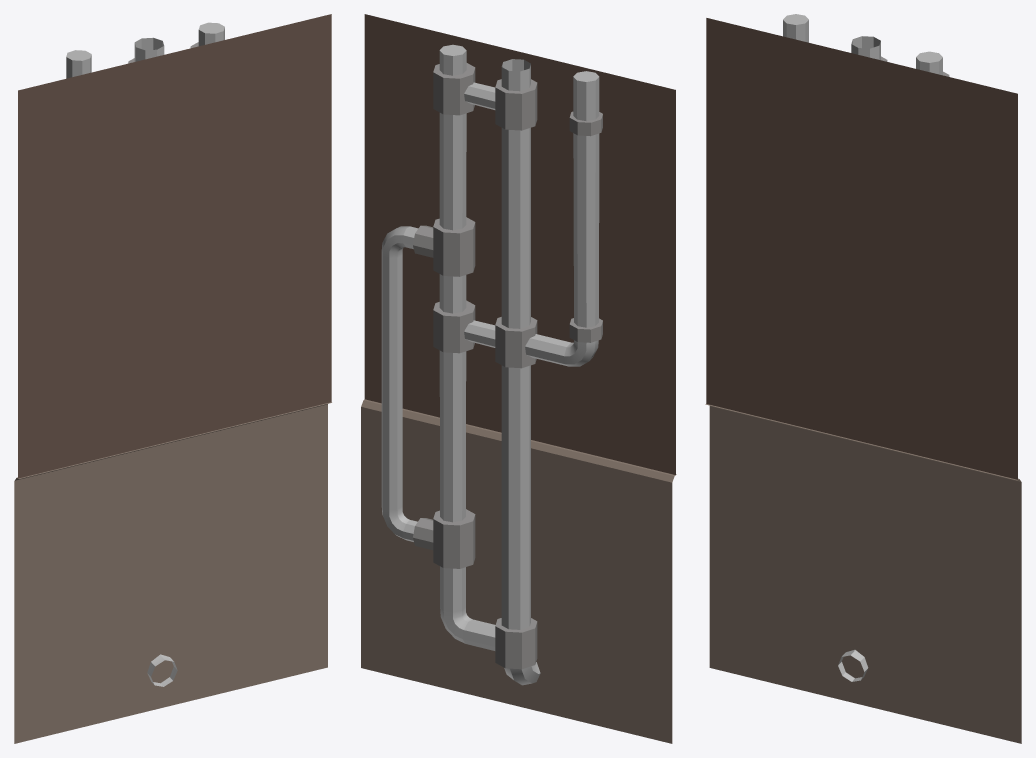
The model's file is pared_1.fbx.
3 views of the same model, side by side, from view 1: azimuth 30°, elevation 25°; view 2: azimuth 150°, elevation 25°; view 3: azimuth 330°, elevation 25° (orthographic).
Parts seen in each view (by area): view 1: base1, pCube3, pCylinder1, pCylinder4, pCylinder6; view 2: base1, pCube3, pCylinder1, pCylinder6, pCylinder4, pCylinder13, pCylinder17, pCylinder14, pCylinder2, pCylinder11, pCylinder20, pCylinder12 (+7 smaller); view 3: base1, pCube3, pCylinder1, pCylinder4, pCylinder6.
Part boxes in pixels (<box>): base1: <box>18,14,331,478</box>; pCube3: <box>14,402,331,743</box>; pCylinder1: <box>134,37,177,686</box>; pCylinder4: <box>66,50,91,78</box>; pCylinder6: <box>198,22,224,46</box>; base1: <box>364,14,675,474</box>; pCube3: <box>361,399,676,743</box>; pCylinder1: <box>501,59,540,685</box>; pCylinder6: <box>439,44,495,650</box>; pCylinder4: <box>525,71,599,366</box>; pCylinder13: <box>381,226,418,541</box>; pCylinder17: <box>433,509,475,568</box>; pCylinder14: <box>433,217,475,276</box>; pCylinder2: <box>495,618,537,669</box>; pCylinder11: <box>495,79,537,130</box>; pCylinder20: <box>433,300,475,353</box>; pCylinder12: <box>433,63,475,115</box>; base1: <box>706,18,1017,479</box>; pCube3: <box>705,404,1021,743</box>; pCylinder1: <box>838,36,880,681</box>; pCylinder4: <box>783,14,808,42</box>; pCylinder6: <box>916,51,942,75</box>.
Size of the model in its own units: 0.01 by 0.0202 by 0.00147.
